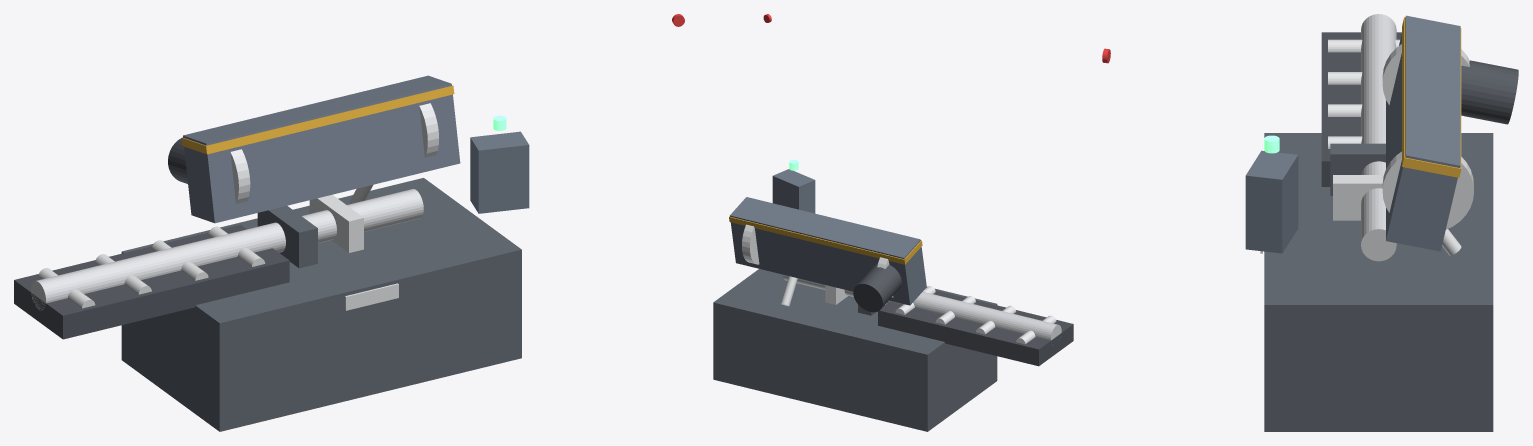
File: saw_01.glb
3 views of the same model, side by side, from view 1: azimuth 30°, elevation 25°; view 2: azimuth 150°, elevation 25°; view 3: azimuth 270°, elevation 25° (orthographic). The views are drawn at different scales.
Parts seen in each view (by area): view 1: SAW_01_BASE, SAW_01_BOW_FRAME, SAW_01_ROLLER_BED, SAW_01_WORKPIECE, SAW_01_CONTROLS, SAW_01_BOW_TRIM, SAW_01_VISE_FIXED, SAW_01, SAW_01_VISE_JAW, SAW_01_LABEL, SAW_01_DRIVE_WHEEL, SAW_01_IDLER_WHEEL (+1 smaller); view 2: SAW_01_BASE, SAW_01_BOW_FRAME, SAW_01_ROLLER_BED, SAW_01_WORKPIECE, SAW_01_MOTOR, SAW_01_CONTROLS, SAW_01_BOW_TRIM, SAW_01, SAW_01_IDLER_WHEEL; view 3: SAW_01_BASE, SAW_01_BOW_FRAME, SAW_01_WORKPIECE, SAW_01_CONTROLS, SAW_01_ROLLER_BED, SAW_01_MOTOR, SAW_01_IDLER_WHEEL, SAW_01, SAW_01_VISE_JAW, SAW_01_VISE_FIXED, SAW_01_BOW_TRIM, SAW_01_DRIVE_WHEEL.
Part boxes in pixels (x1,y1,x2,y2): SAW_01_BASE: (121, 178, 521, 431); SAW_01_BOW_FRAME: (183, 75, 460, 223); SAW_01_ROLLER_BED: (14, 224, 289, 339); SAW_01_WORKPIECE: (31, 189, 423, 310); SAW_01_CONTROLS: (470, 131, 529, 213); SAW_01_BOW_TRIM: (181, 85, 454, 154); SAW_01_VISE_FIXED: (257, 206, 317, 268); SAW_01: (38, 226, 265, 308); SAW_01_VISE_JAW: (309, 194, 363, 252); SAW_01_LABEL: (345, 283, 398, 310); SAW_01_DRIVE_WHEEL: (230, 149, 250, 203); SAW_01_IDLER_WHEEL: (419, 103, 439, 157); SAW_01_BASE: (713, 269, 997, 431); SAW_01_BOW_FRAME: (730, 197, 926, 305); SAW_01_ROLLER_BED: (878, 290, 1073, 366); SAW_01_WORKPIECE: (783, 274, 1061, 340); SAW_01_MOTOR: (853, 263, 901, 312); SAW_01_CONTROLS: (772, 169, 815, 213); SAW_01_BOW_TRIM: (729, 216, 922, 264); SAW_01: (895, 286, 1056, 344); SAW_01_IDLER_WHEEL: (742, 224, 759, 264); SAW_01_BASE: (1264, 133, 1493, 431); SAW_01_BOW_FRAME: (1386, 15, 1460, 251); SAW_01_WORKPIECE: (1361, 14, 1396, 261); SAW_01_CONTROLS: (1245, 150, 1298, 253); SAW_01_ROLLER_BED: (1321, 32, 1401, 186); SAW_01_MOTOR: (1461, 60, 1518, 124); SAW_01_IDLER_WHEEL: (1382, 151, 1473, 229); SAW_01: (1328, 39, 1399, 148); SAW_01_VISE_JAW: (1333, 175, 1383, 220); SAW_01_VISE_FIXED: (1330, 143, 1385, 195); SAW_01_BOW_TRIM: (1402, 17, 1461, 177); SAW_01_DRIVE_WHEEL: (1382, 44, 1469, 105).
Bounding box in the file's own units: 2.8 × 1.88 × 1.64.
